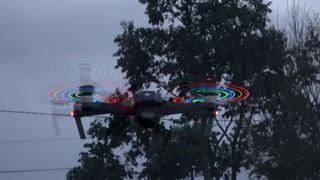UAV: (47, 83, 249, 153)
